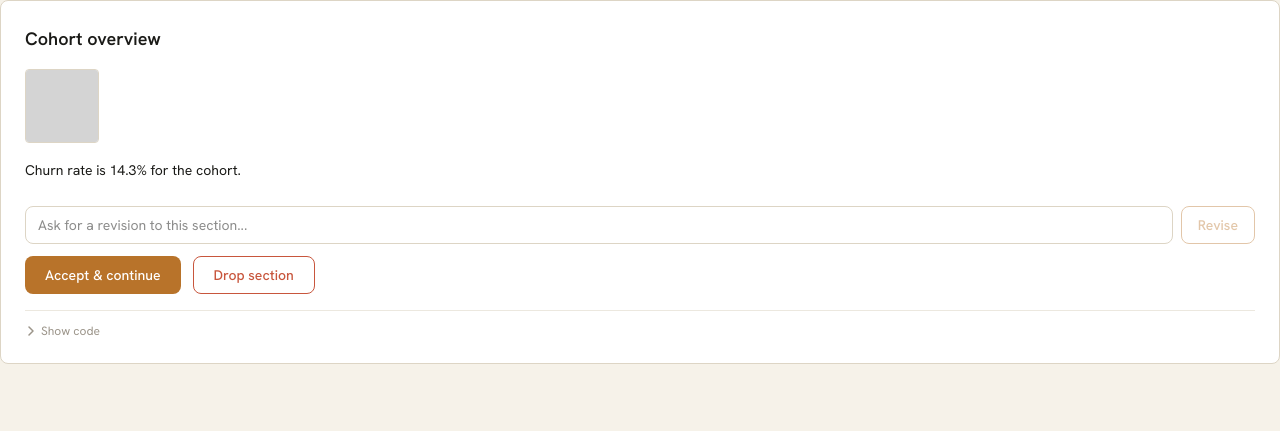
Test: SectionPane › test_revise_error — failed revision preserves input and shows error
Type "use grouped bars" into the field with test id "section-revise-input" at (599, 225), box [25, 206, 1173, 244]
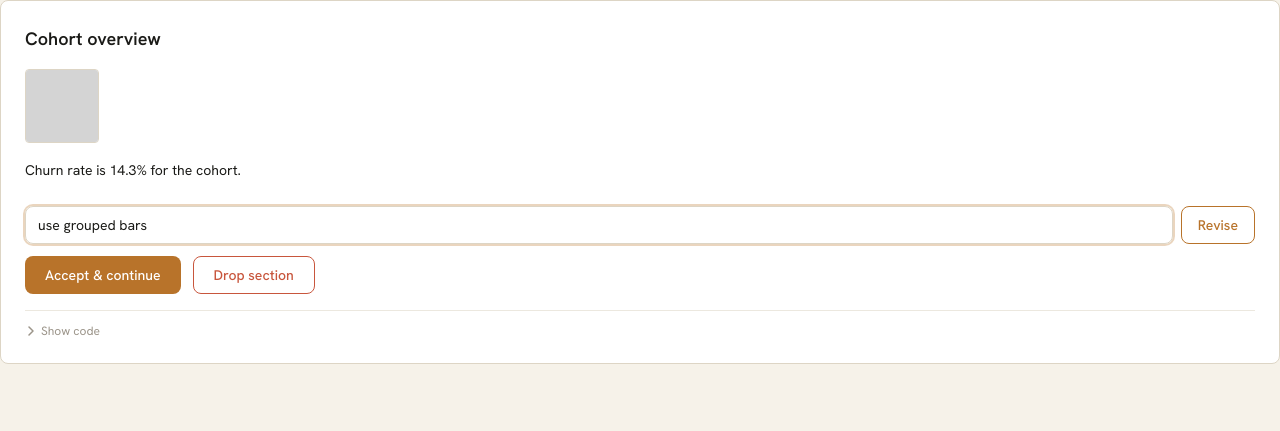
Click the button with test id "section-revise-btn" at (1218, 225), box [1181, 206, 1255, 244]
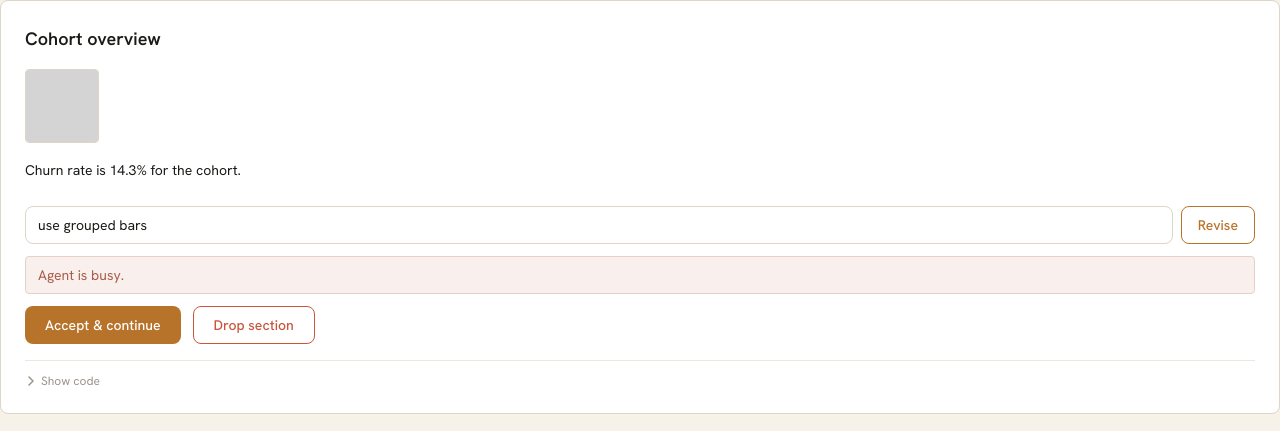
Result: the text with test id "section-revise-error" reads "Agent is busy." at [38, 266, 124, 284]
